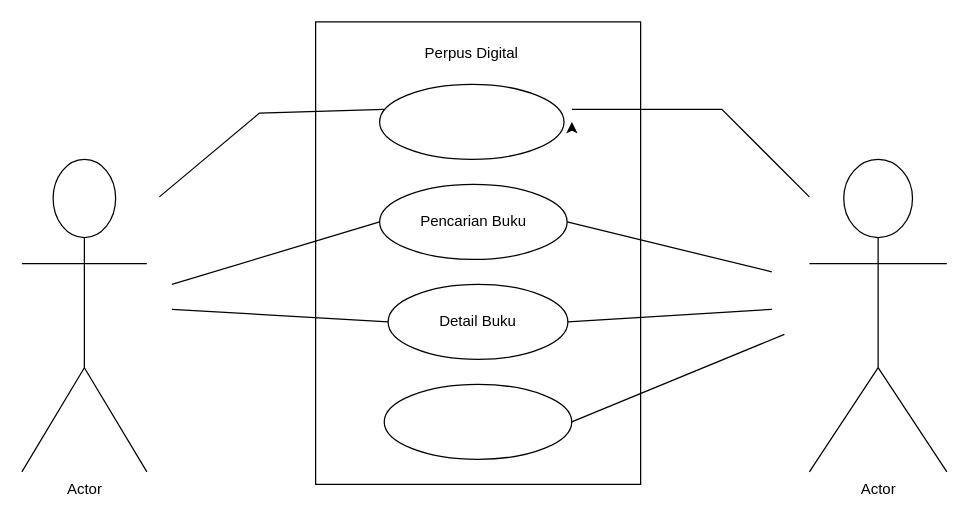
Some shapes in this 969 by 520 pixel diagram are drawn without their labels. Here are the shapes that lost their labels. From the top down, the centre of each, then its label:
At point 471,121: "Form Pengunjung".
At point 477,421: "Laporan Statistik".
